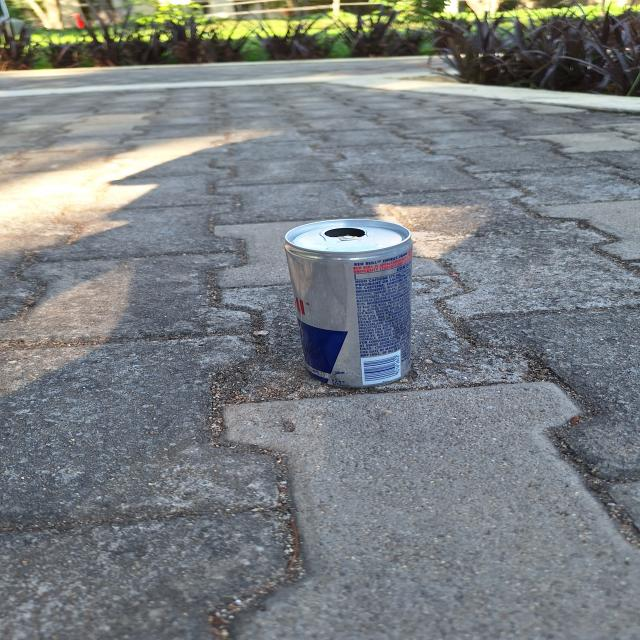Redbul: (279, 220, 417, 390)
